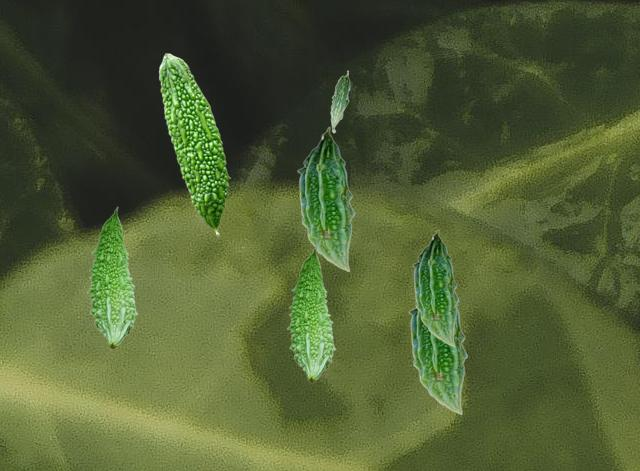ampalaya: (158, 52, 231, 237), (297, 126, 355, 272), (86, 206, 138, 349), (286, 245, 336, 383), (408, 302, 468, 415), (412, 229, 459, 347), (330, 70, 350, 133)
